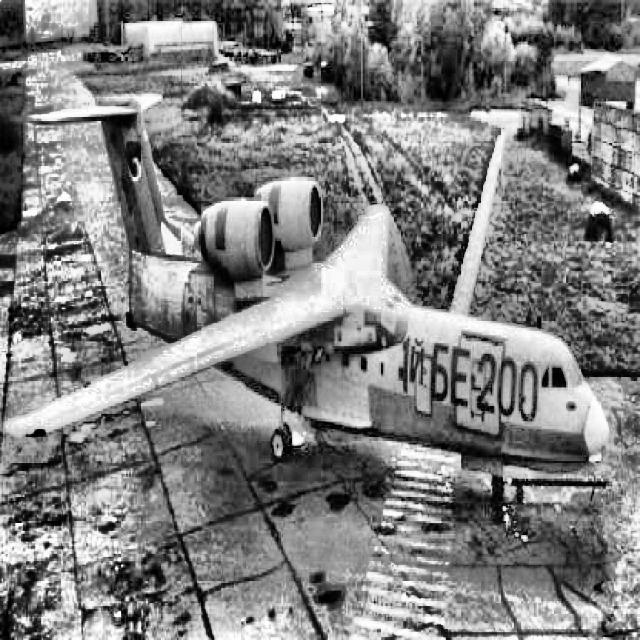Be200: (2, 91, 610, 502)
